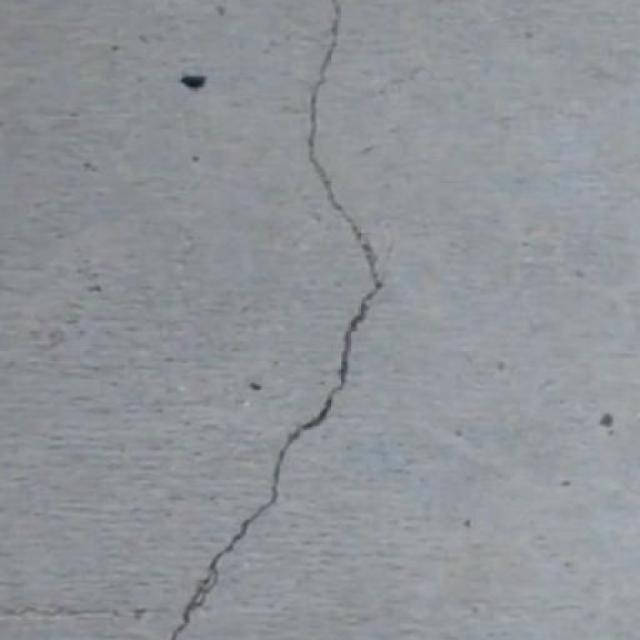Vertical Crack: (177, 0, 379, 638)
